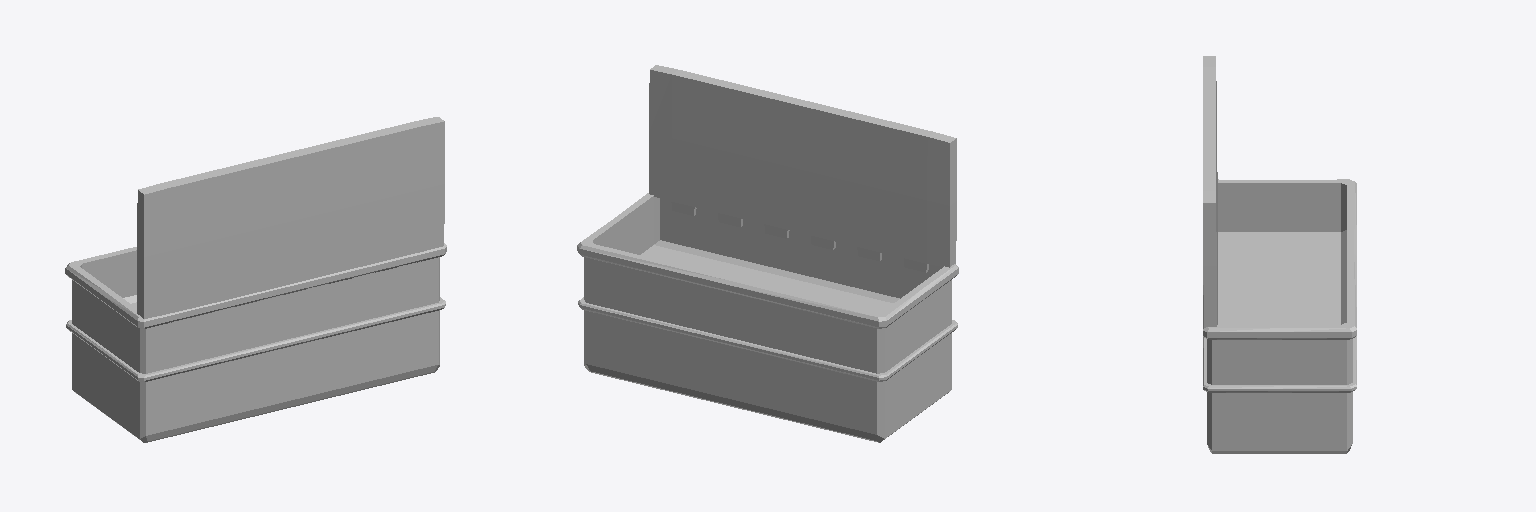
Rendered from Comedero.obj.
3 views of the same model, side by side, from view 1: azimuth 30°, elevation 25°; view 2: azimuth 150°, elevation 25°; view 3: azimuth 270°, elevation 25° (orthographic).
Visible parts, largest first — view 1: subtool1, subtool2; view 2: subtool1, subtool2; view 3: subtool1, subtool2.
Boxes of the visible parts, box(x1,y1,x2,y2) form: subtool1: box(65, 243, 446, 442); subtool2: box(137, 117, 444, 322); subtool1: box(577, 193, 958, 442); subtool2: box(649, 65, 956, 272); subtool1: box(1203, 179, 1356, 453); subtool2: box(1203, 56, 1217, 327).
Bounding box in the file's own units: 1 × 0.7867 × 0.435.